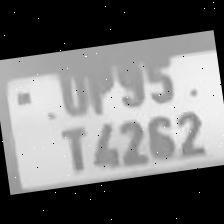2: (169, 104, 208, 159), (113, 112, 148, 168)
4: (84, 114, 122, 171)
5: (138, 48, 177, 105)
6: (140, 108, 178, 163)
P: (79, 53, 117, 114)
T: (52, 119, 94, 176)
U: (48, 56, 90, 117)
